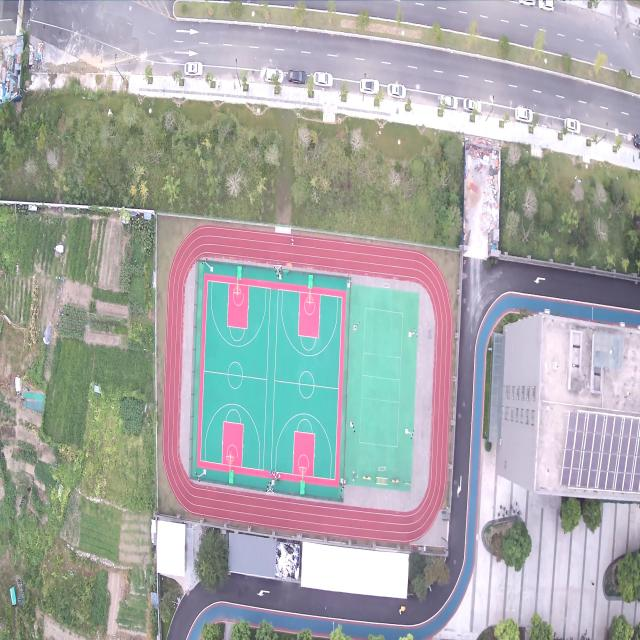UAV: (142, 402, 150, 418)
